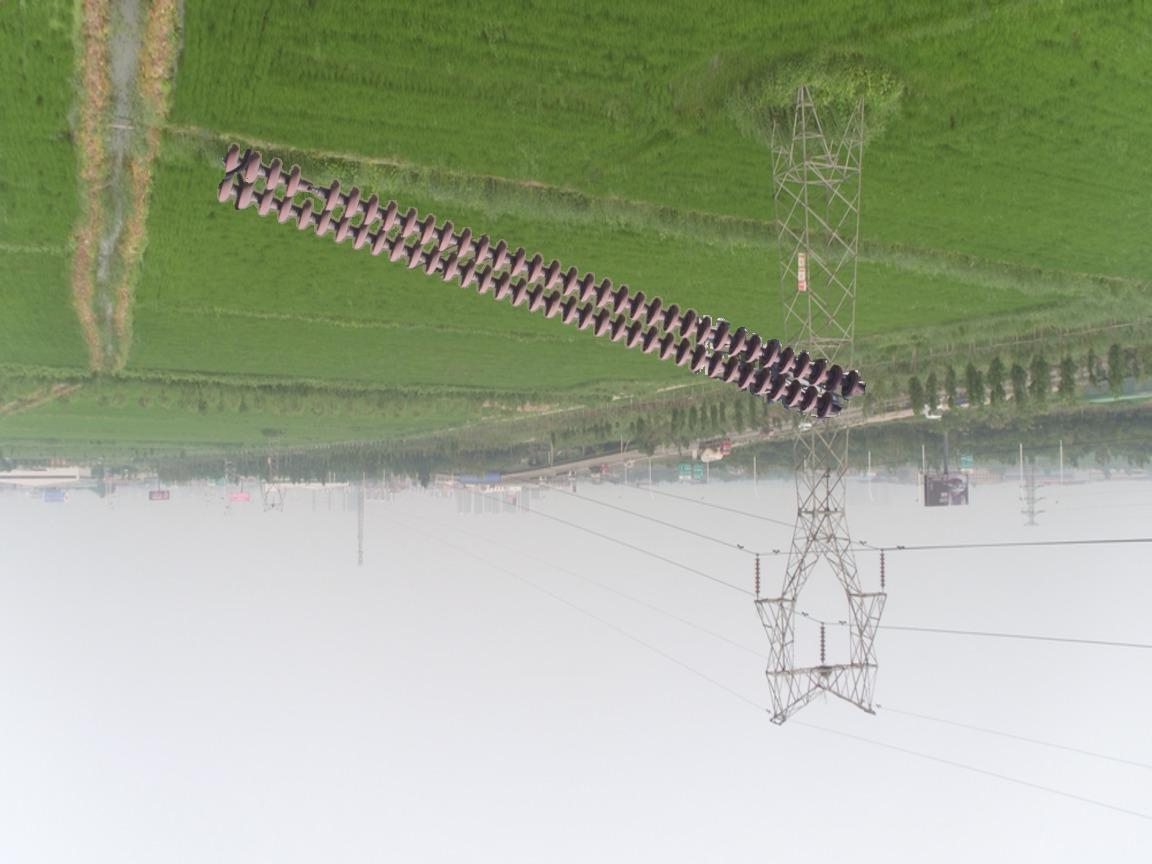insulator: (211, 141, 870, 423), (816, 622, 831, 666), (751, 554, 766, 597), (874, 548, 889, 588)
insulator_stringdrop: (281, 162, 343, 214)
